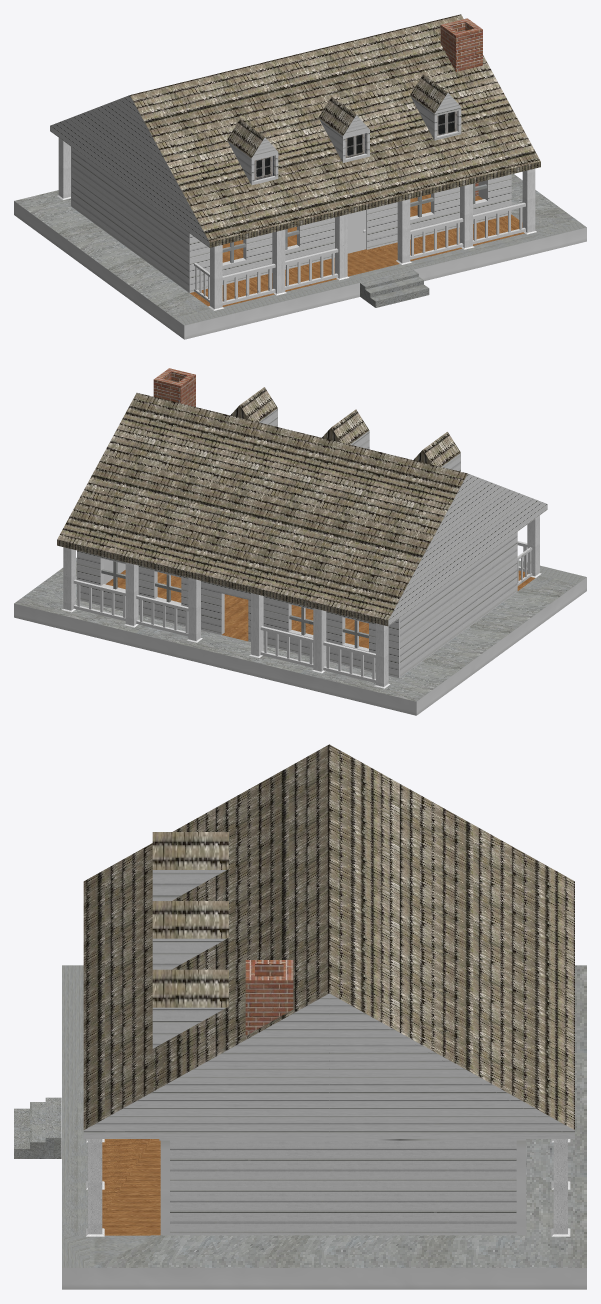
Rendered from HouseMesh.fbx.
3 views of the same model, one above another, from view 1: azimuth 30°, elevation 25°; view 2: azimuth 150°, elevation 25°; view 3: azimuth 270°, elevation 25° (orthographic). The views are drawn at different scales.
Visible parts, largest first — view 1: House, Fence, Fence.001, Door; view 2: House, Fence.002, Fence; view 3: House.
Part boxes in pixels (x1,y1,x2,y2): House: (14, 14, 586, 339); Fence: (410, 202, 525, 259); Fence.001: (222, 248, 338, 305); Door: (347, 210, 366, 253); House: (14, 368, 586, 715); Fence.002: (260, 626, 375, 682); Fence: (73, 579, 188, 636); House: (14, 744, 586, 1289).
Size of the model in its own units: 3000 by 1276 by 2401.
